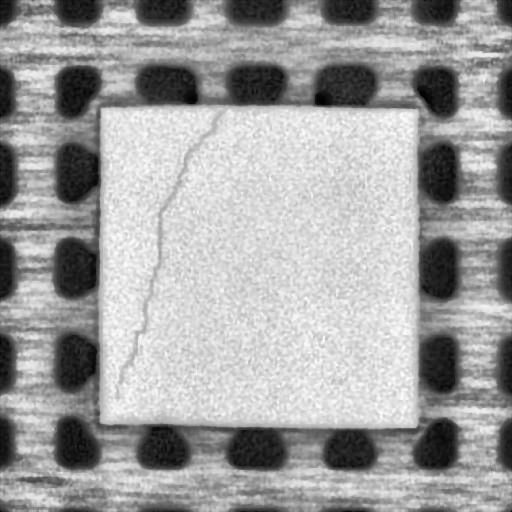DIE_CRACK: (111, 108, 225, 400)
